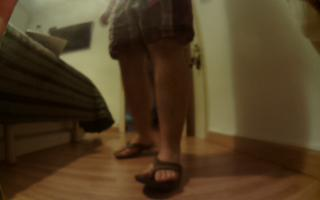person: (96, 1, 214, 198)
